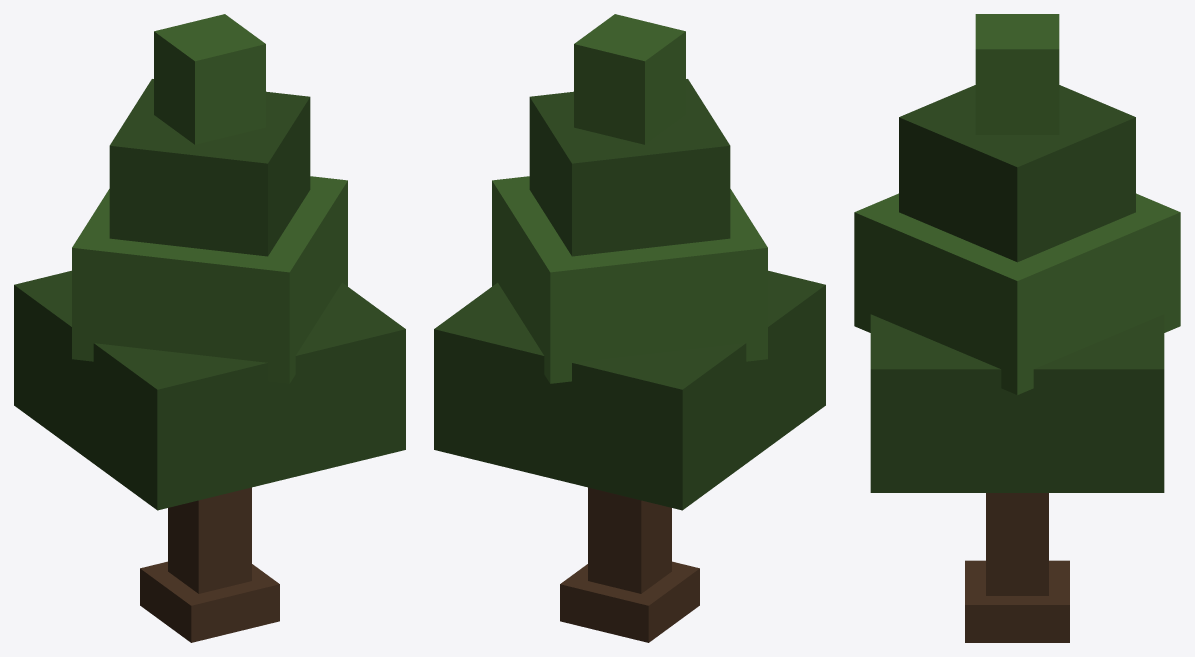
Rendered from tree_pine.gltf.
3 renders of one model, left to right at view 1: azimuth 30°, elevation 25°; view 2: azimuth 150°, elevation 25°; view 3: azimuth 270°, elevation 25°, orthographic. The views are drawn at different scales.
Visible parts, largest first — view 1: tier1, tier2, tier3, tip, trunk, root_flare; view 2: tier1, tier2, tier3, tip, trunk, root_flare; view 3: tier1, tier2, tier3, tip, trunk, root_flare.
Part boxes in pixels (x1,y1,x2,y2): tier1: [14, 270, 405, 510]; tier2: [72, 176, 347, 383]; tier3: [109, 79, 310, 256]; tip: [154, 14, 265, 144]; trunk: [168, 487, 251, 593]; root_flare: [140, 561, 279, 642]; tier1: [434, 270, 825, 510]; tier2: [492, 176, 767, 383]; tier3: [529, 79, 730, 256]; tip: [574, 14, 685, 144]; trunk: [588, 487, 671, 593]; root_flare: [560, 561, 699, 642]; tier1: [870, 314, 1164, 492]; tier2: [854, 193, 1180, 394]; tier3: [899, 85, 1135, 262]; tip: [975, 14, 1059, 134]; trunk: [986, 493, 1048, 595]; root_flare: [965, 560, 1069, 642].
Bounding box in the file's own units: 0.9723 × 1.94 × 0.9723.
Materials: 3 (3 with a texture image).
